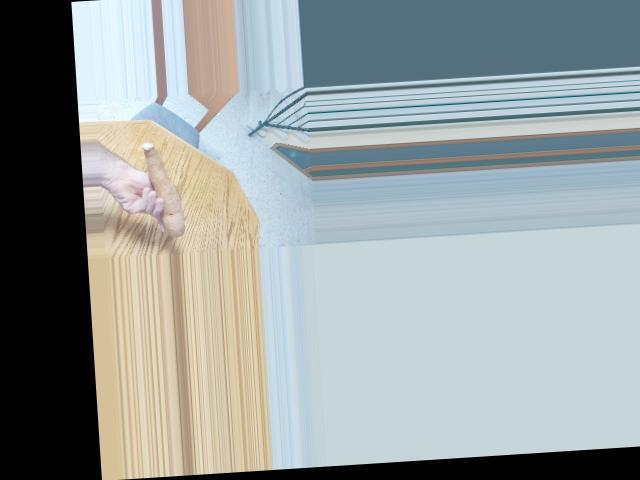sweet_potato: (140, 138, 189, 236)
